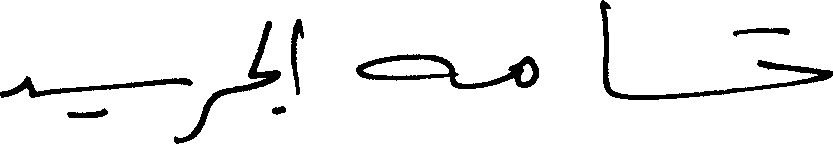ا: (597, 0, 609, 96), (288, 16, 302, 94)
ج: (243, 68, 284, 114)
ح: (757, 25, 831, 90)
د: (191, 79, 216, 139), (0, 73, 33, 97)
ل: (246, 19, 274, 76)
م: (513, 54, 540, 89)
ه: (355, 51, 457, 87)
ي: (62, 76, 193, 116)
